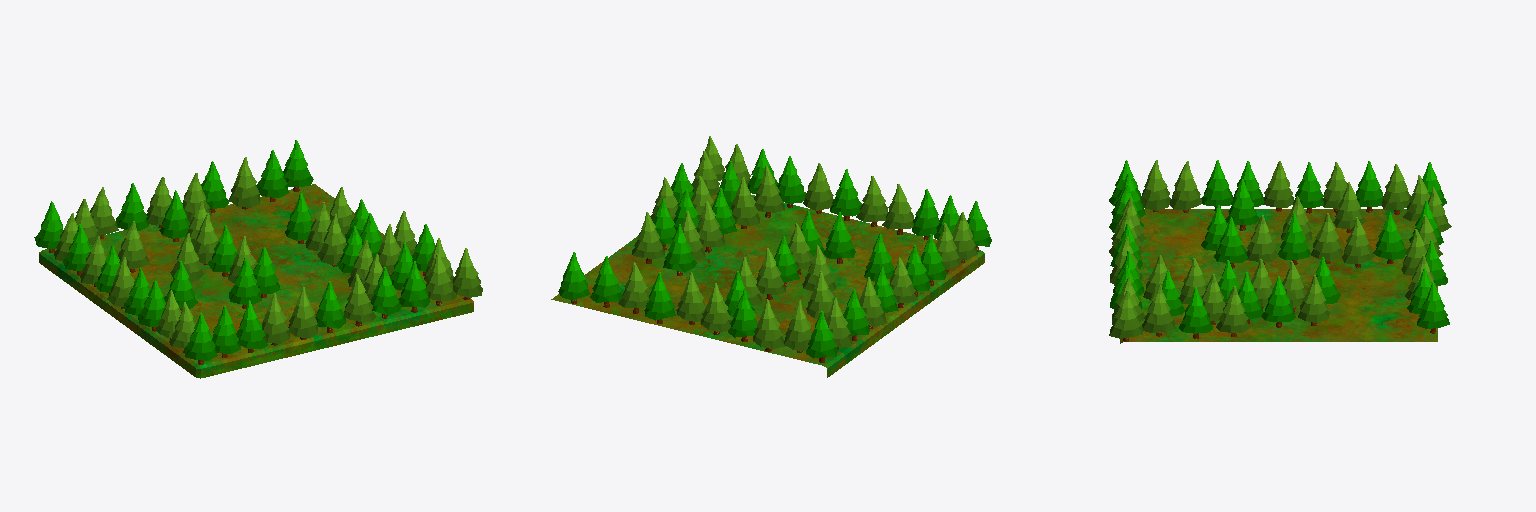
3 views of the same model, side by side, from view 1: azimuth 30°, elevation 25°; view 2: azimuth 150°, elevation 25°; view 3: azimuth 270°, elevation 25° (orthographic).
Visible parts, largest first — view 1: Cube.013, Arbol_1.129, Arbol_1.119, Arbol_1.133, Arbol_1.140, Arbol_1.128, Arbol_1.130, Arbol_1.136, Arbol_1.121, Arbol_1.132, Arbol_1.137, Arbol_1.134 (+28 smaller); view 2: Cube.013, Arbol_1.101, Arbol_1.102, Arbol_1.141, Arbol_1.209, Arbol_1.099, Arbol_1.128, Arbol_1.130, Arbol_1.127, Arbol_1.131, Arbol_1.147, Arbol_1.134 (+28 smaller); view 3: Cube.013, Arbol_1.140, Arbol_1.213, Arbol_1.118, Arbol_1.211, Arbol_1.138, Arbol_1.104, Arbol_1.209, Arbol_1.212, Arbol_1.145, Arbol_1.116, Arbol_1.131 (+24 smaller).
Part boxes in pixels (x1,y1,x2,y2): Cube.013: (39, 184, 473, 378); Arbol_1.129: (229, 157, 259, 209); Arbol_1.119: (184, 313, 217, 364); Arbol_1.133: (288, 287, 317, 339); Arbol_1.140: (453, 248, 482, 299); Arbol_1.128: (256, 150, 288, 201); Arbol_1.130: (229, 257, 261, 308); Arbol_1.136: (344, 274, 376, 326); Arbol_1.121: (236, 300, 267, 352); Arbol_1.132: (262, 293, 289, 345); Arbol_1.137: (398, 261, 430, 312); Arbol_1.134: (315, 281, 345, 332); Cube.013: (551, 195, 984, 377); Arbol_1.101: (753, 299, 784, 351); Arbol_1.102: (701, 283, 730, 334); Arbol_1.141: (663, 224, 696, 275); Arbol_1.209: (632, 212, 664, 263); Arbol_1.099: (806, 311, 837, 362); Arbol_1.128: (590, 256, 621, 307); Arbol_1.130: (823, 212, 855, 263); Arbol_1.127: (644, 272, 675, 323); Arbol_1.131: (558, 252, 590, 303); Arbol_1.147: (730, 177, 759, 228); Arbol_1.134: (830, 169, 861, 220); Cube.013: (1120, 209, 1437, 343); Arbol_1.140: (1109, 290, 1142, 341); Arbol_1.213: (1142, 285, 1175, 336); Arbol_1.118: (1170, 161, 1201, 212); Arbol_1.211: (1216, 286, 1250, 336); Arbol_1.138: (1141, 160, 1170, 211); Arbol_1.104: (1373, 212, 1406, 263); Arbol_1.209: (1298, 275, 1329, 325); Arbol_1.212: (1261, 276, 1295, 327); Arbol_1.145: (1179, 287, 1212, 338); Arbol_1.116: (1263, 161, 1293, 211); Arbol_1.131: (1417, 282, 1449, 333).
Size of the model in its own units: 106 by 21.19 by 107.
Materials: 3 (3 with a texture image).